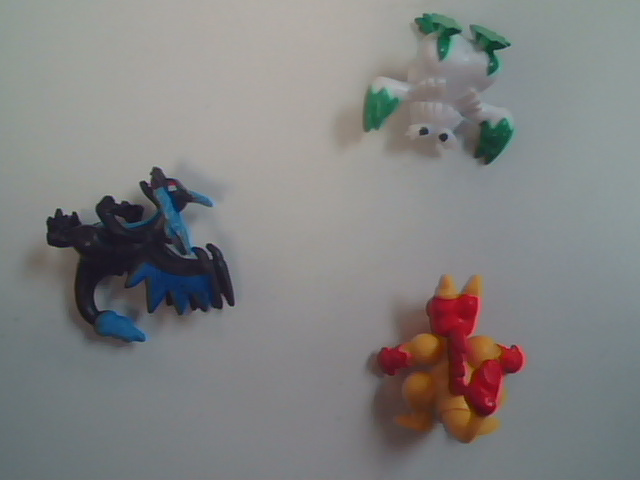abomasnow: (333, 16, 546, 181)
charizard: (37, 162, 248, 372)
magmar: (363, 273, 576, 459)
